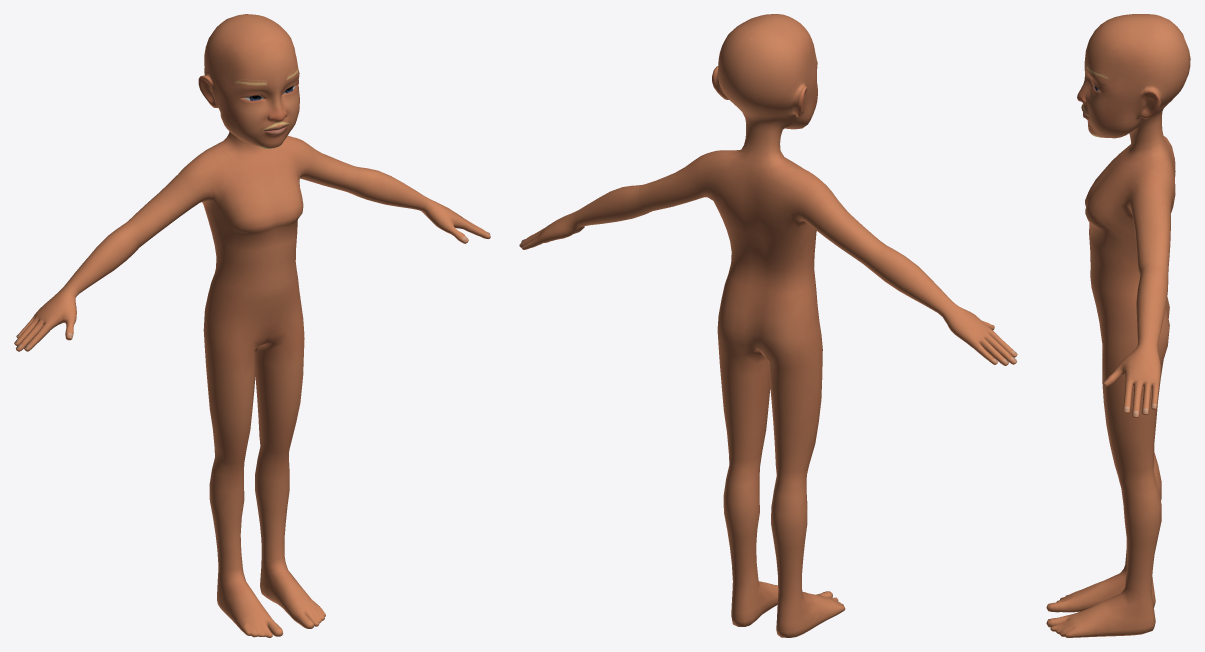
Rendered from frame_0045.glb.
The picture shows the model from 3 angles, left to right: view 1: azimuth 30°, elevation 25°; view 2: azimuth 150°, elevation 25°; view 3: azimuth 270°, elevation 25°; orthographic projection. The views are drawn at different scales.
Visible parts, largest first — view 1: frame_0045_head_geo; view 2: frame_0045_head_geo; view 3: frame_0045_head_geo.
Part boxes in pixels (<box>): frame_0045_head_geo: <box>14,14,490,637</box>; frame_0045_head_geo: <box>519,14,1017,637</box>; frame_0045_head_geo: <box>1046,14,1190,637</box>.
Size of the model in its own units: 1.28 by 1.5 by 0.3253.
3 materials, 3 textured.
